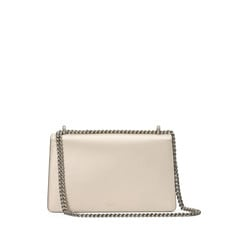Gucci: (44, 124, 188, 216)
